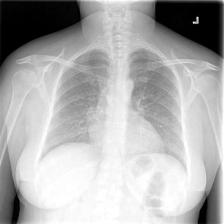normal: (36, 44, 190, 174)
